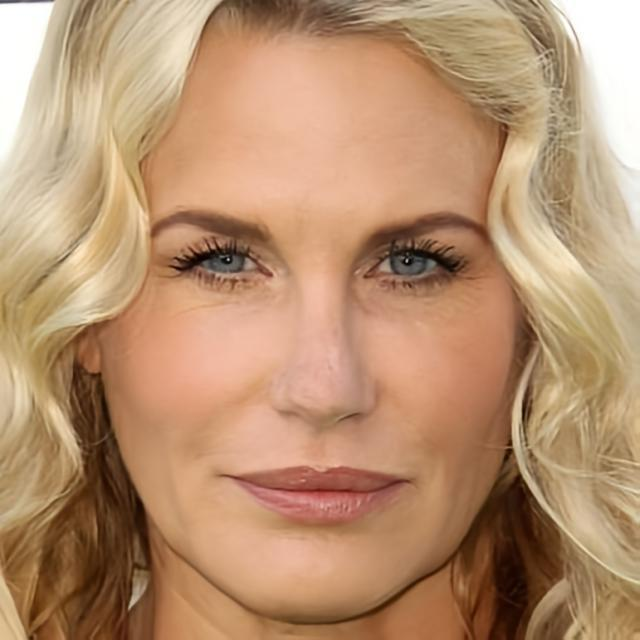content: (98, 6, 528, 624)
